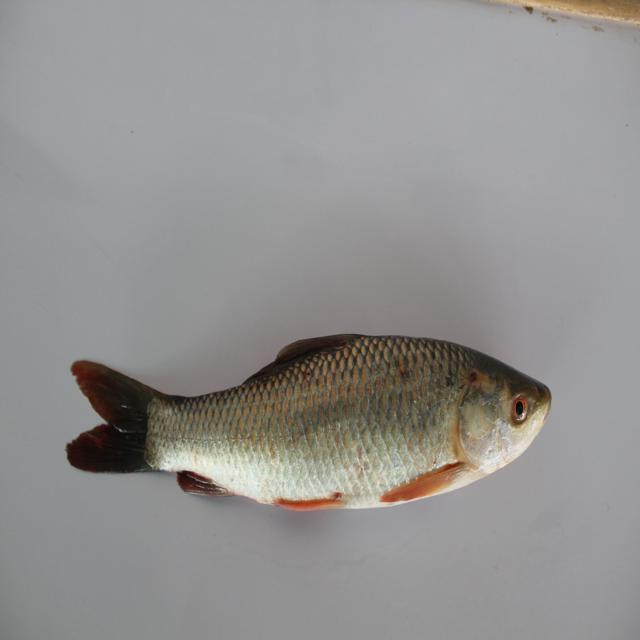Rohu: (57, 330, 567, 526)
